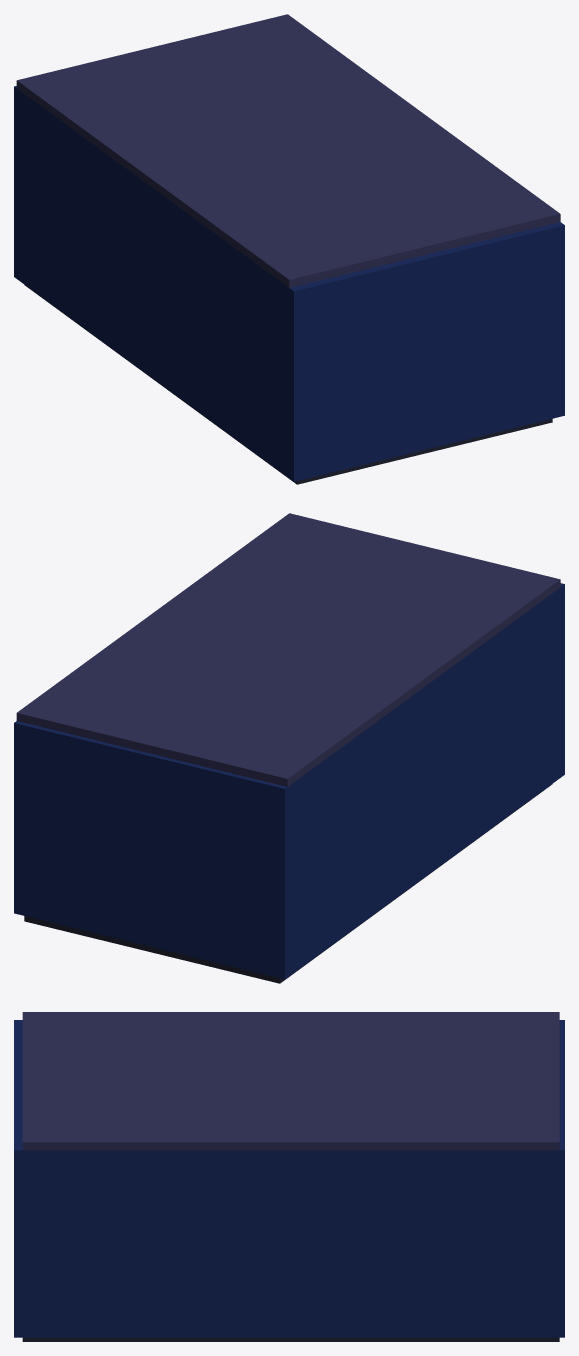
Rendered from van.glb.
3 views of the same model, one above another, from view 1: azimuth 30°, elevation 25°; view 2: azimuth 150°, elevation 25°; view 3: azimuth 270°, elevation 25° (orthographic).
Visible parts, largest first — view 1: teto, parede_fundo, parede_-1, piso; view 2: teto, parede_cabine, parede_-1, piso, parede_fundo; view 3: parede_1, teto, parede_fundo, piso, parede_cabine.
Part boxes in pixels (x1,y1,x2,y2): teto: (16, 14, 560, 287); parede_fundo: (289, 222, 564, 481); parede_-1: (16, 89, 289, 477); piso: (24, 285, 552, 484); teto: (16, 513, 560, 786); parede_cabine: (14, 721, 287, 979); parede_-1: (287, 587, 560, 977); piso: (24, 784, 552, 983); parede_fundo: (560, 583, 564, 777); parede_1: (22, 1150, 559, 1337); teto: (22, 1012, 559, 1150); parede_fundo: (14, 1020, 22, 1337); piso: (22, 1337, 559, 1341); parede_cabine: (559, 1020, 564, 1337).
Size of the model in its own units: 3.5 by 2.55 by 6.26.
